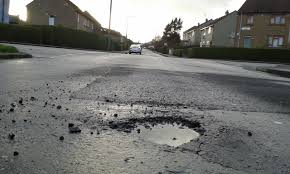pothole: (101, 101, 217, 155)
